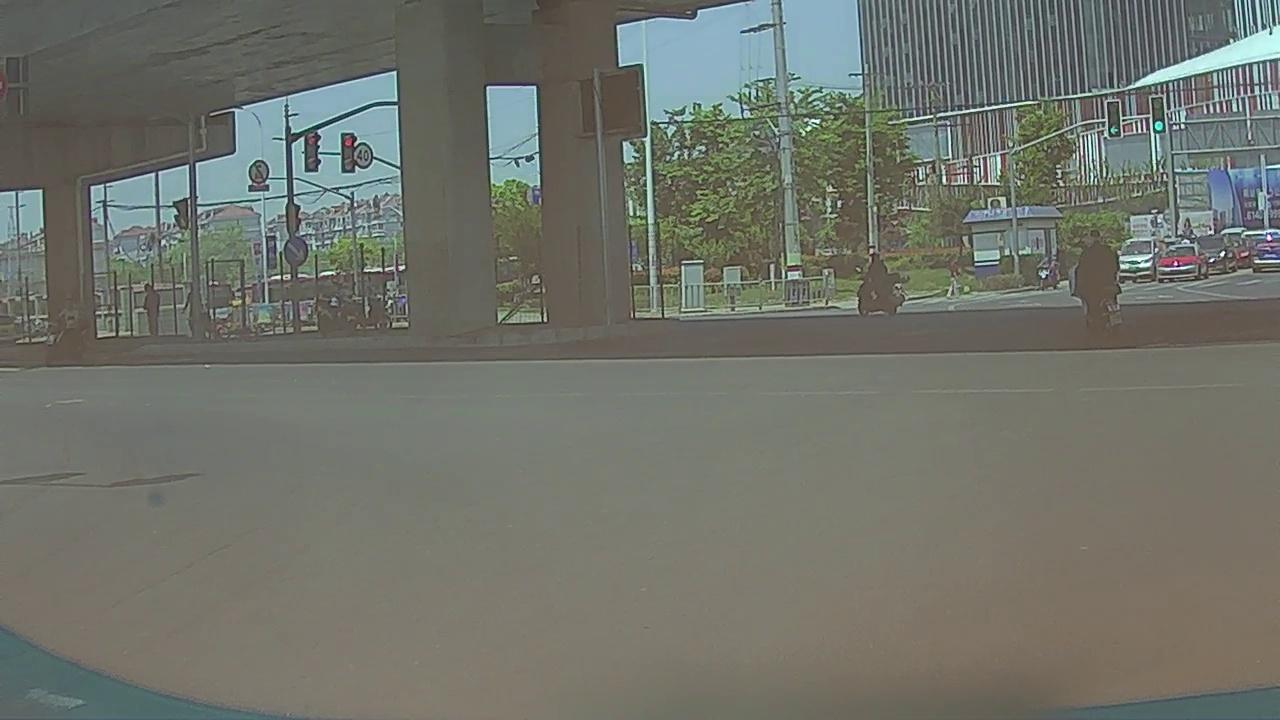traffic_light: (1106, 100, 1122, 138), (341, 131, 355, 173), (1151, 98, 1167, 134), (305, 131, 319, 172)
